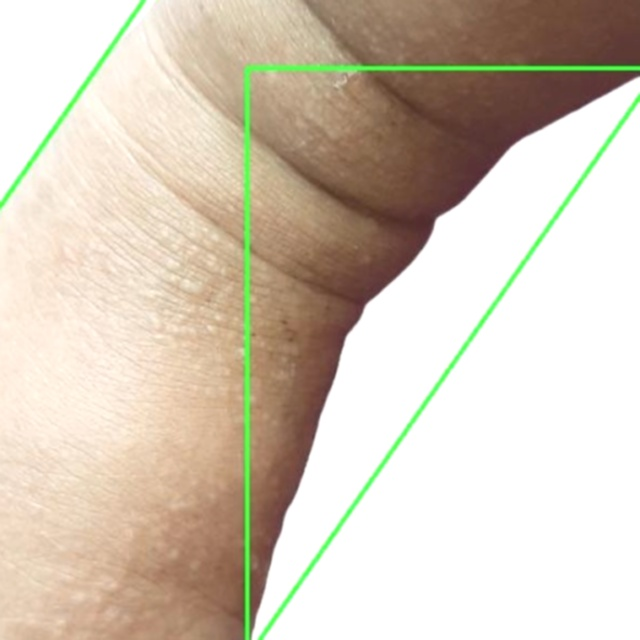Scabies: (0, 0, 639, 639), (247, 68, 639, 639)
